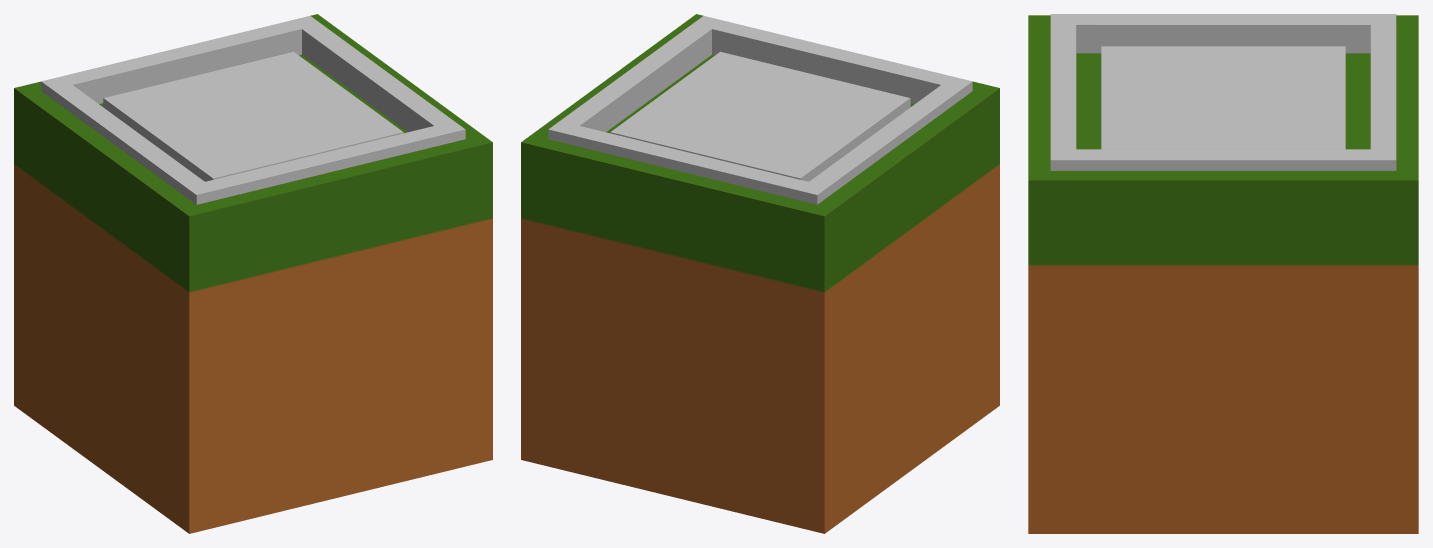
File: instrument_tile.fbx
3 renders of one model, left to right at view 1: azimuth 30°, elevation 25°; view 2: azimuth 150°, elevation 25°; view 3: azimuth 270°, elevation 25°, orthographic. The views are drawn at different scales.
Visible parts, largest first — view 1: GrassBlock; view 2: GrassBlock; view 3: GrassBlock.
Boxes of the visible parts, x1,y1,x2,y2 form: GrassBlock: [14, 14, 492, 533]; GrassBlock: [521, 14, 999, 533]; GrassBlock: [1028, 14, 1418, 533].
Bounding box in the file's own units: 100 × 103 × 100.
Materials: 1 (1 with a texture image).
